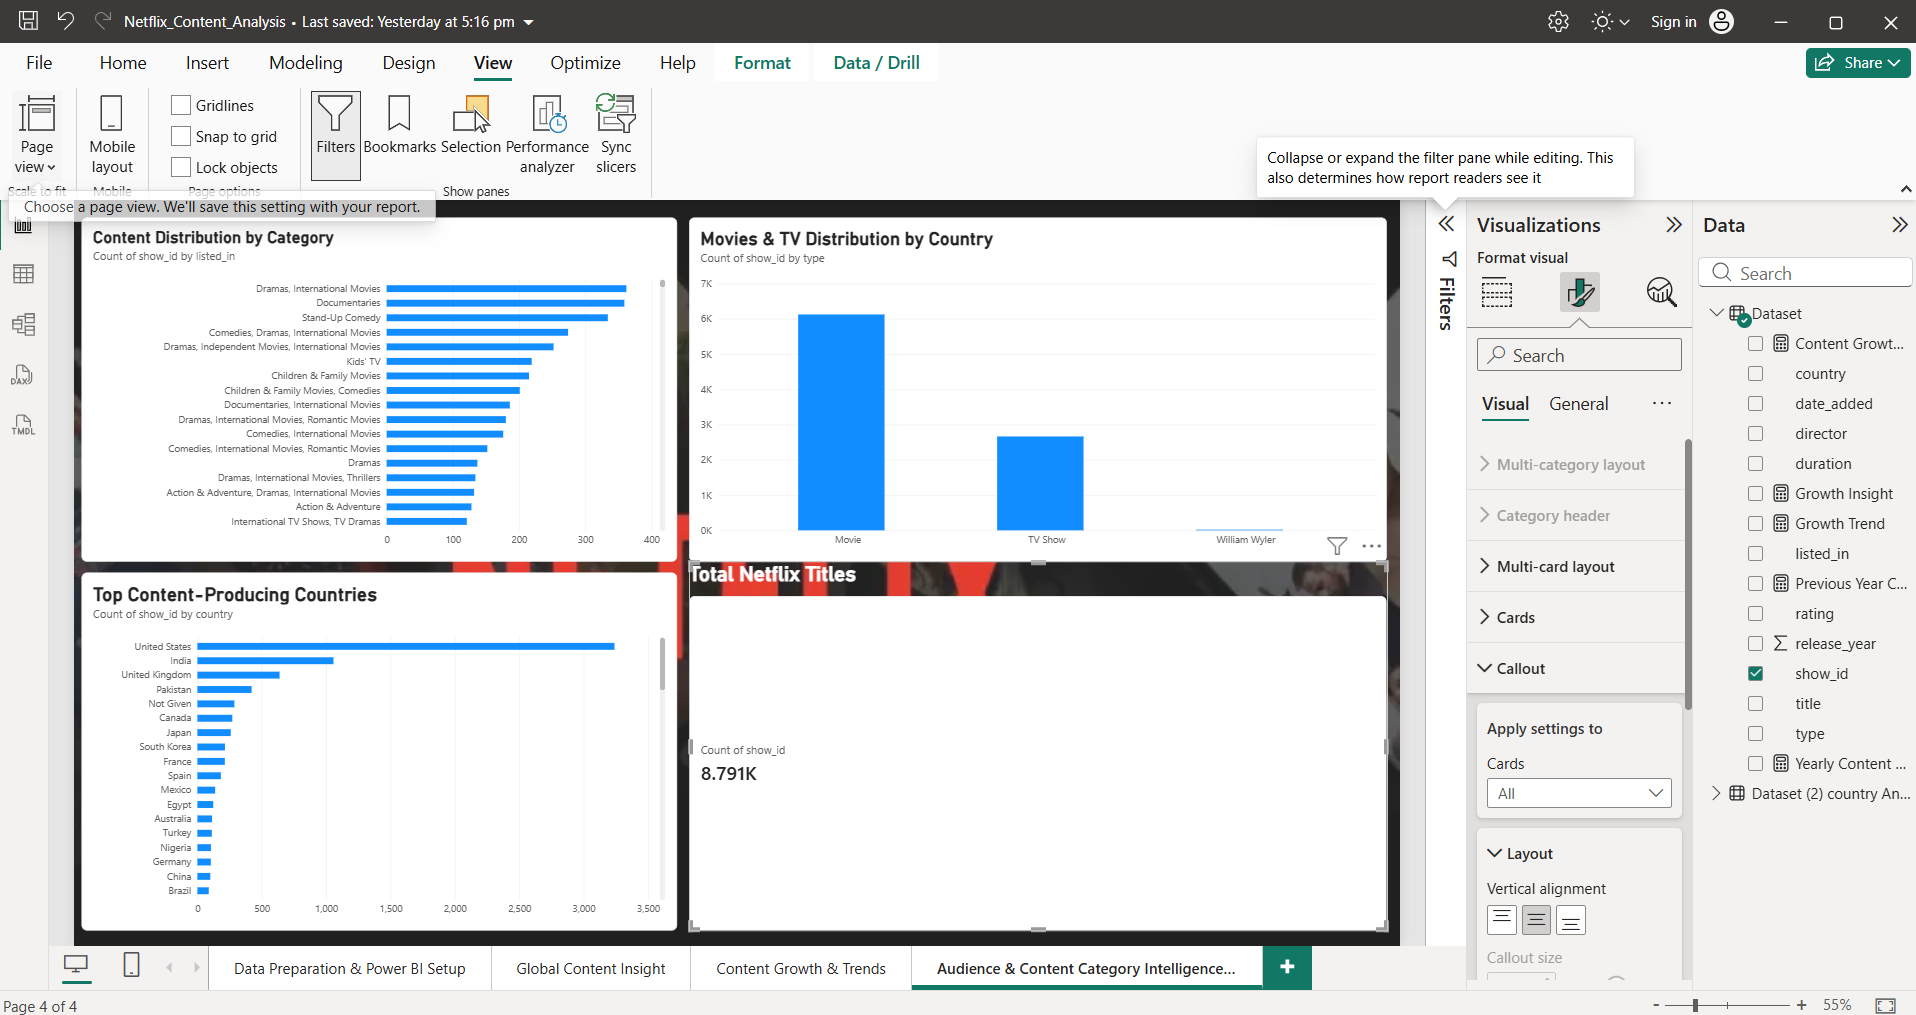

The dashboard page shown, as its layout file describes it:
{"tool":"powerbi","page":{"name":"Audience & Content Category Intelligence Dashboard","canvas":[1920,1080],"ordinal":3},"visuals":[{"type":"clusteredBarChart","title":"Content Distribution by Category","fields":{"Category":["Dataset.listed_in"],"Y":["CountNonNull(Dataset.show_id)"]},"box":[10.3,24.7,862.4,498.1],"z":0},{"type":"clusteredColumnChart","title":"Movies & TV Distribution by Country","fields":{"Category":["Dataset.type"],"Y":["CountNonNull(Dataset.show_id)"]},"box":[891.3,24.7,1010.6,498.1],"z":1},{"type":"clusteredBarChart","title":"Top Content-Producing Countries","fields":{"Category":["Dataset.country"],"Y":["CountNonNull(Dataset.show_id)"]},"box":[10.3,539.3,862.4,518.7],"z":2},{"type":"cardVisual","title":"Total Netflix Titles","fields":{"Data":["CountNonNull(Dataset.show_id)"]},"box":[891.3,522.8,1010.6,535.2],"z":3}]}

Visuals, with their boxes on the page's 1920x1080 design canvas (x1, y1, x2, y2). These are canvas units, not pixel positions in the 1916x1015 screenshot, which may show the page scaled, cropped or inside an application window:
"Content Distribution by Category" clusteredBarChart: (x1=10, y1=25, x2=873, y2=523)
"Movies & TV Distribution by Country" clusteredColumnChart: (x1=891, y1=25, x2=1902, y2=523)
"Top Content-Producing Countries" clusteredBarChart: (x1=10, y1=539, x2=873, y2=1058)
"Total Netflix Titles" cardVisual: (x1=891, y1=523, x2=1902, y2=1058)
